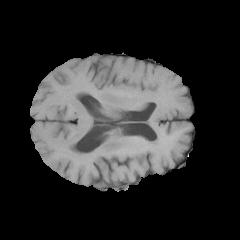glioma: (78, 136, 165, 163)
